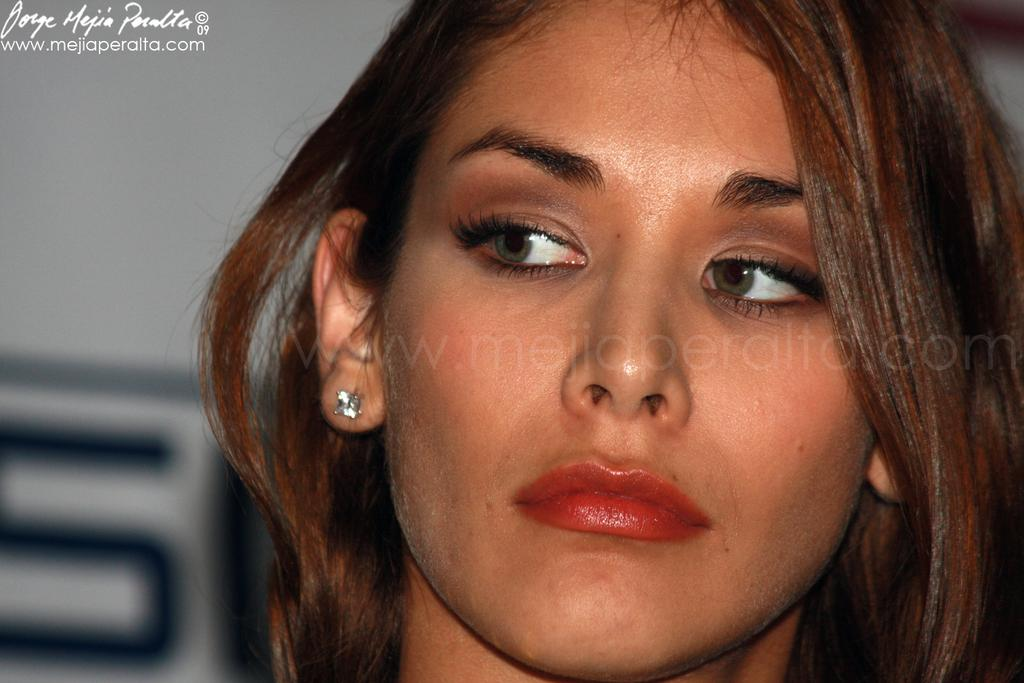Sem Máscara: (379, 0, 870, 681)
